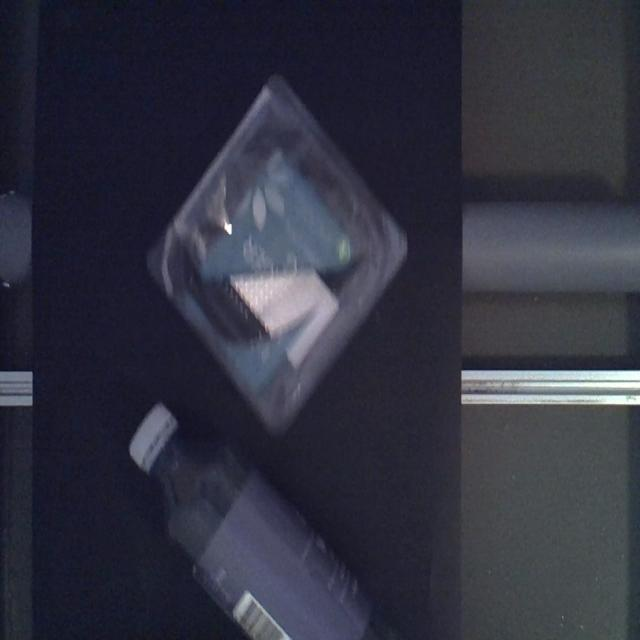bottle-plastic: (125, 402, 393, 640)
mixed-plastics: (145, 71, 409, 437)
